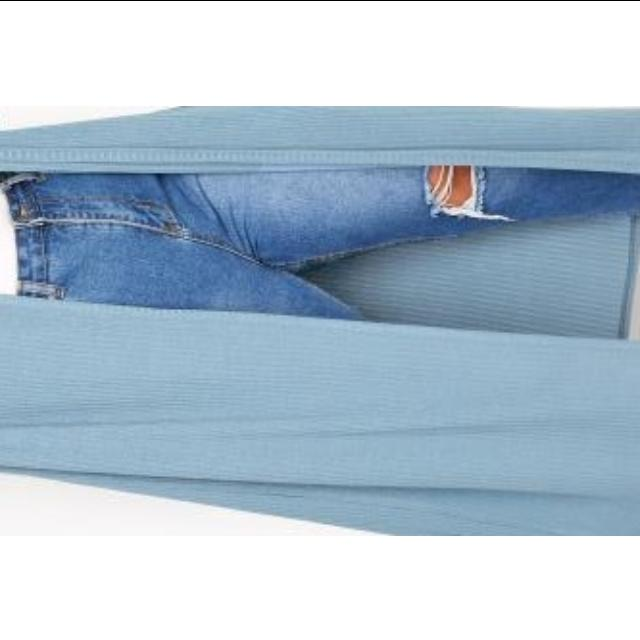denim: (21, 164, 222, 290)
